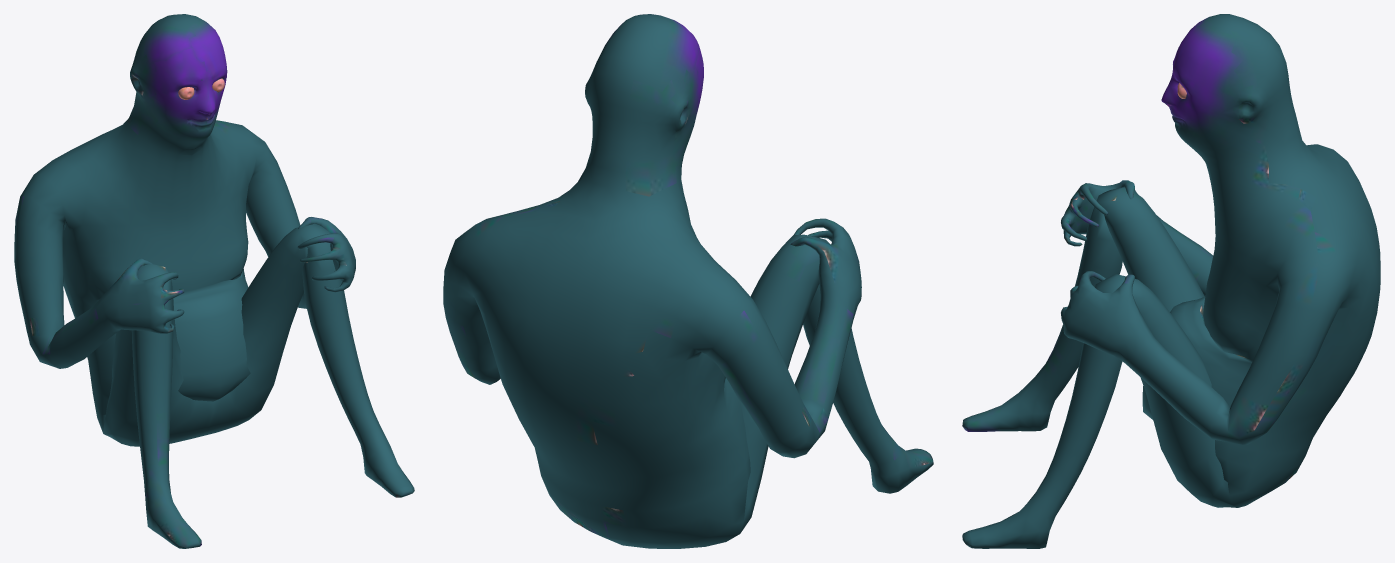
File: SCOOF.glb
3 renders of one model, left to right at view 1: azimuth 30°, elevation 25°; view 2: azimuth 150°, elevation 25°; view 3: azimuth 270°, elevation 25°, orthographic. The views are drawn at different scales.
Parts seen in each view (by area): view 1: SCOOF_sitting; view 2: SCOOF_sitting; view 3: SCOOF_sitting.
Part boxes in pixels (<box>): SCOOF_sitting: <box>14,14,414,548</box>; SCOOF_sitting: <box>443,14,933,548</box>; SCOOF_sitting: <box>962,14,1380,548</box>.
Size of the model in its own units: 0.8561 by 1.22 by 0.9926.
1 material, 1 textured.
